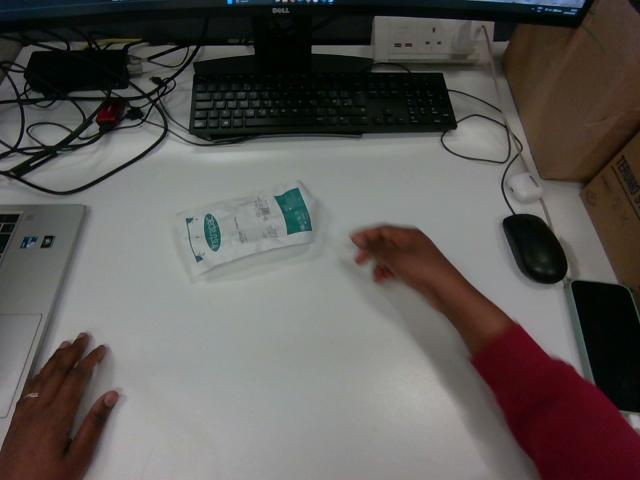gallipot: (177, 181, 314, 274)
